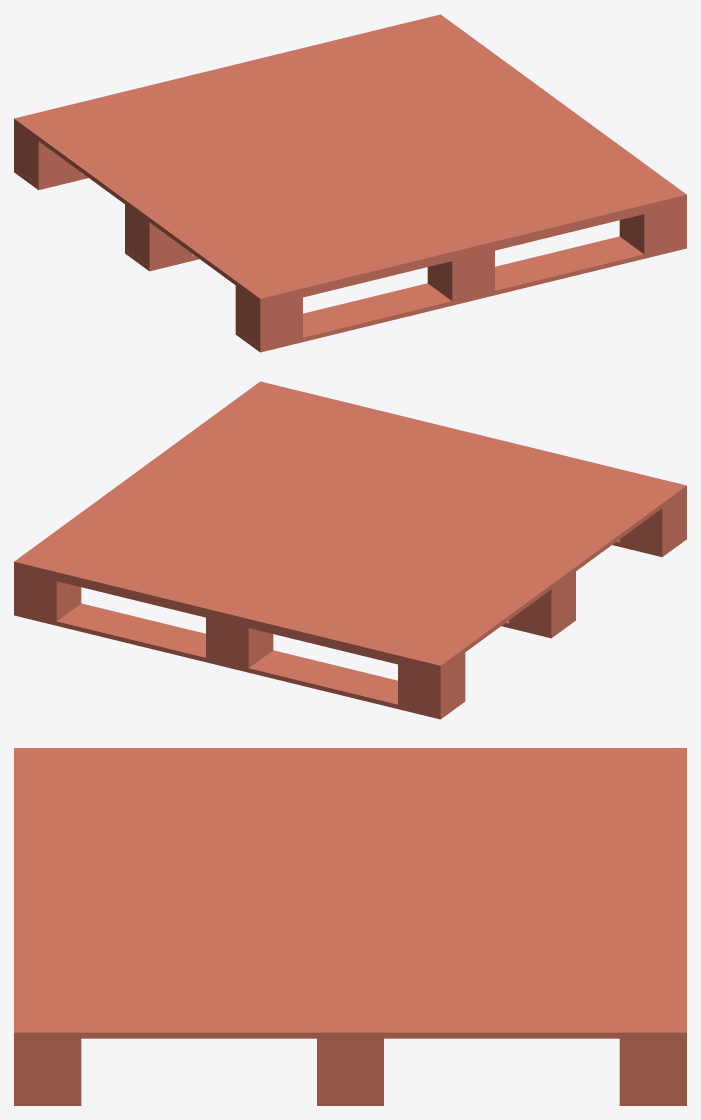
Rendered from pallet-2.glb.
3 renders of one model, top to bottom at view 1: azimuth 30°, elevation 25°; view 2: azimuth 150°, elevation 25°; view 3: azimuth 270°, elevation 25°, orthographic. The views are drawn at different scales.
Parts seen in each view (by area): view 1: pallet-2; view 2: pallet-2; view 3: pallet-2.
Boxes of the visible parts, x1,y1,x2,y2 form: pallet-2: [14, 14, 686, 352]; pallet-2: [14, 381, 686, 719]; pallet-2: [14, 748, 686, 1105].
Bounding box in the file's own units: 1 × 0.1204 × 1.
1 material, 1 textured.
